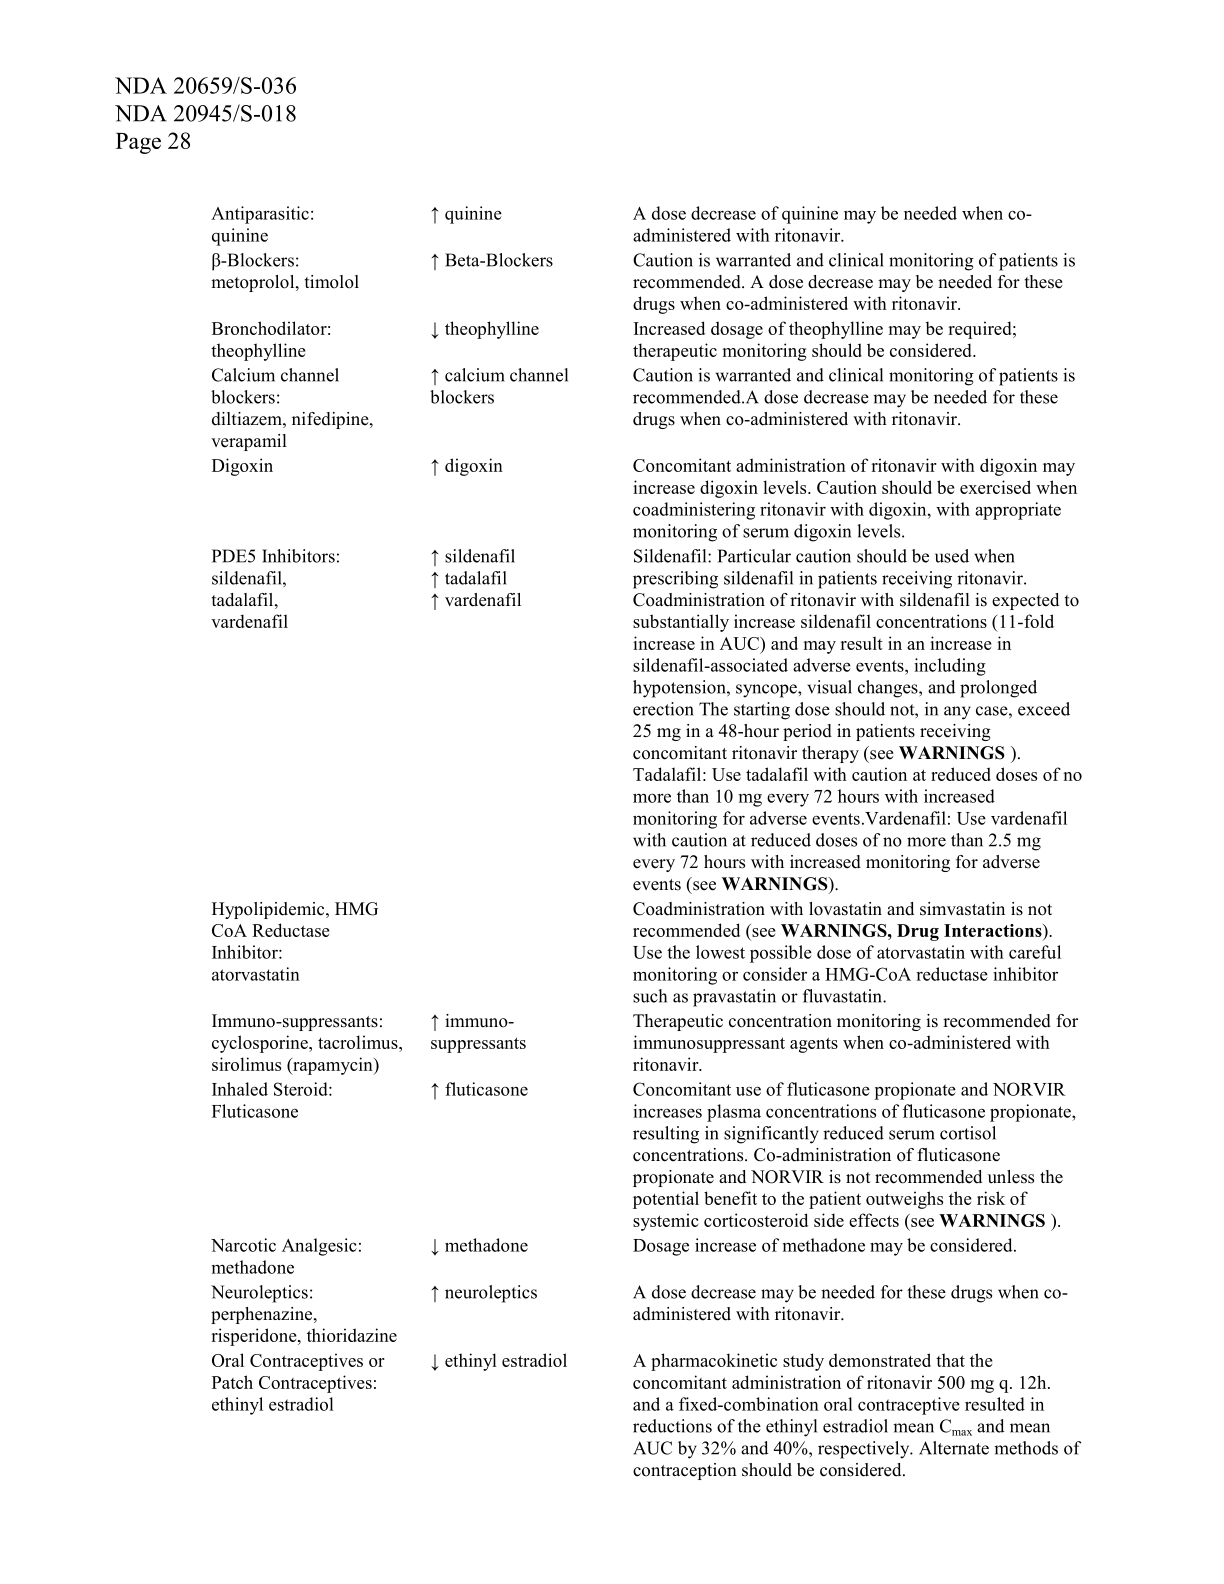nolines: (208, 203, 1083, 1480)
